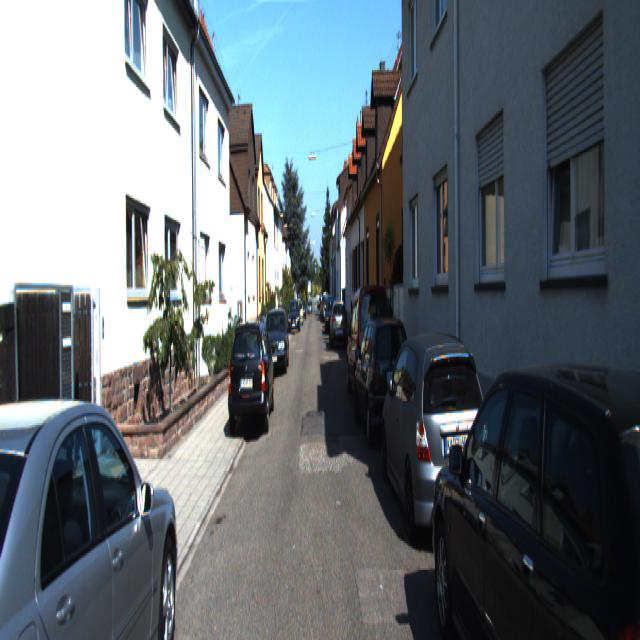Car: (430, 334, 639, 638), (0, 362, 184, 638), (379, 319, 493, 558), (354, 307, 416, 456), (347, 282, 391, 418), (228, 312, 274, 436), (262, 304, 290, 374), (330, 300, 348, 350), (288, 297, 300, 333)
